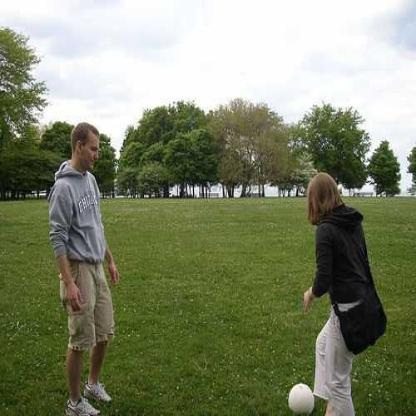ball: (287, 382, 314, 416)
